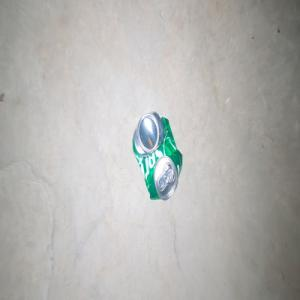SodaCan: (131, 111, 182, 200)
